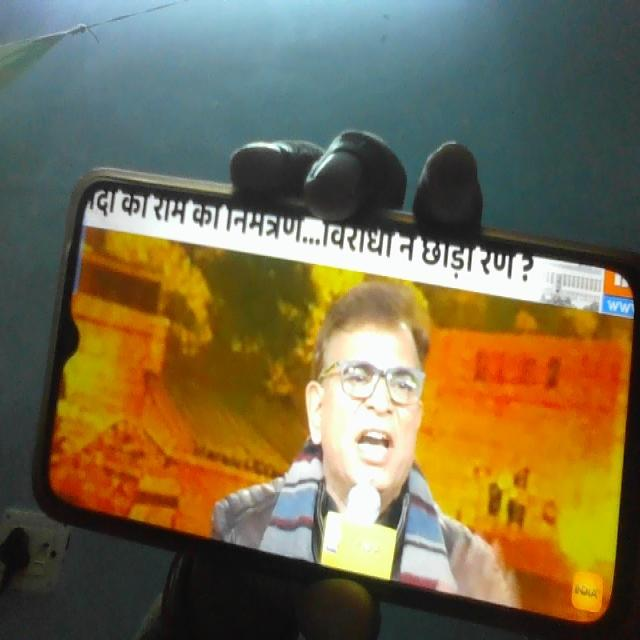fake: (307, 284, 430, 517)
